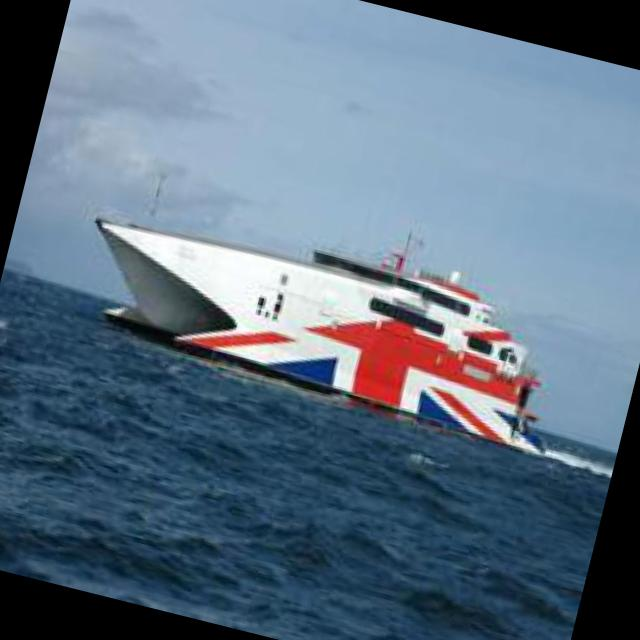boat: (53, 166, 583, 463)
